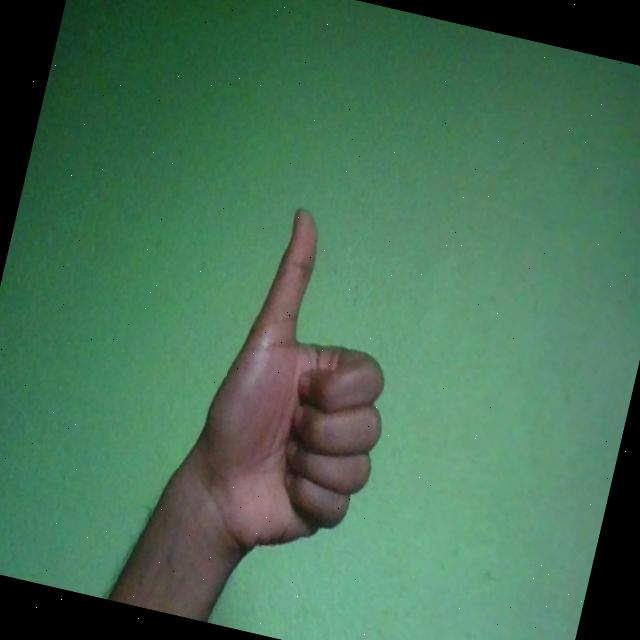Good Job: (175, 198, 428, 586)
